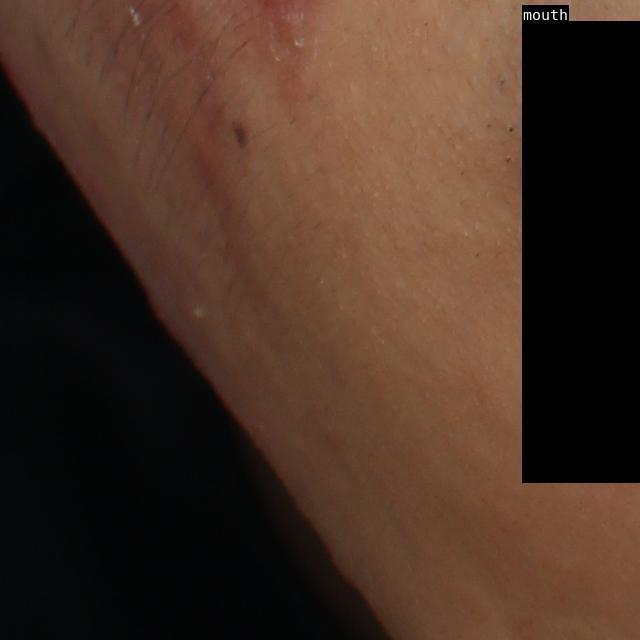nevus: (232, 117, 250, 151)
